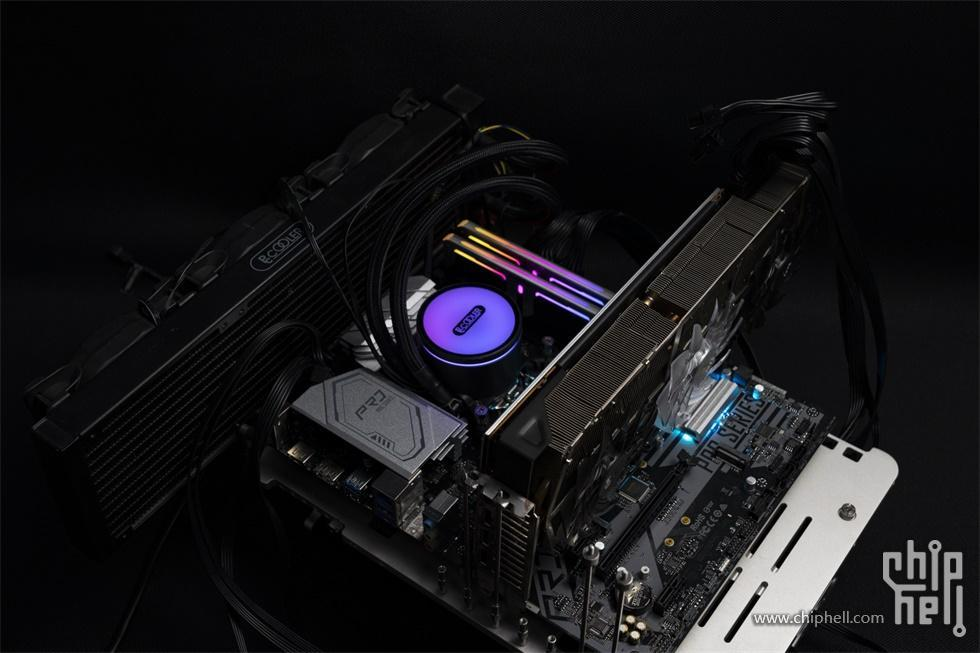hole: (518, 615, 532, 629), (544, 634, 560, 646), (436, 562, 450, 575), (664, 536, 674, 548), (682, 514, 690, 526)
